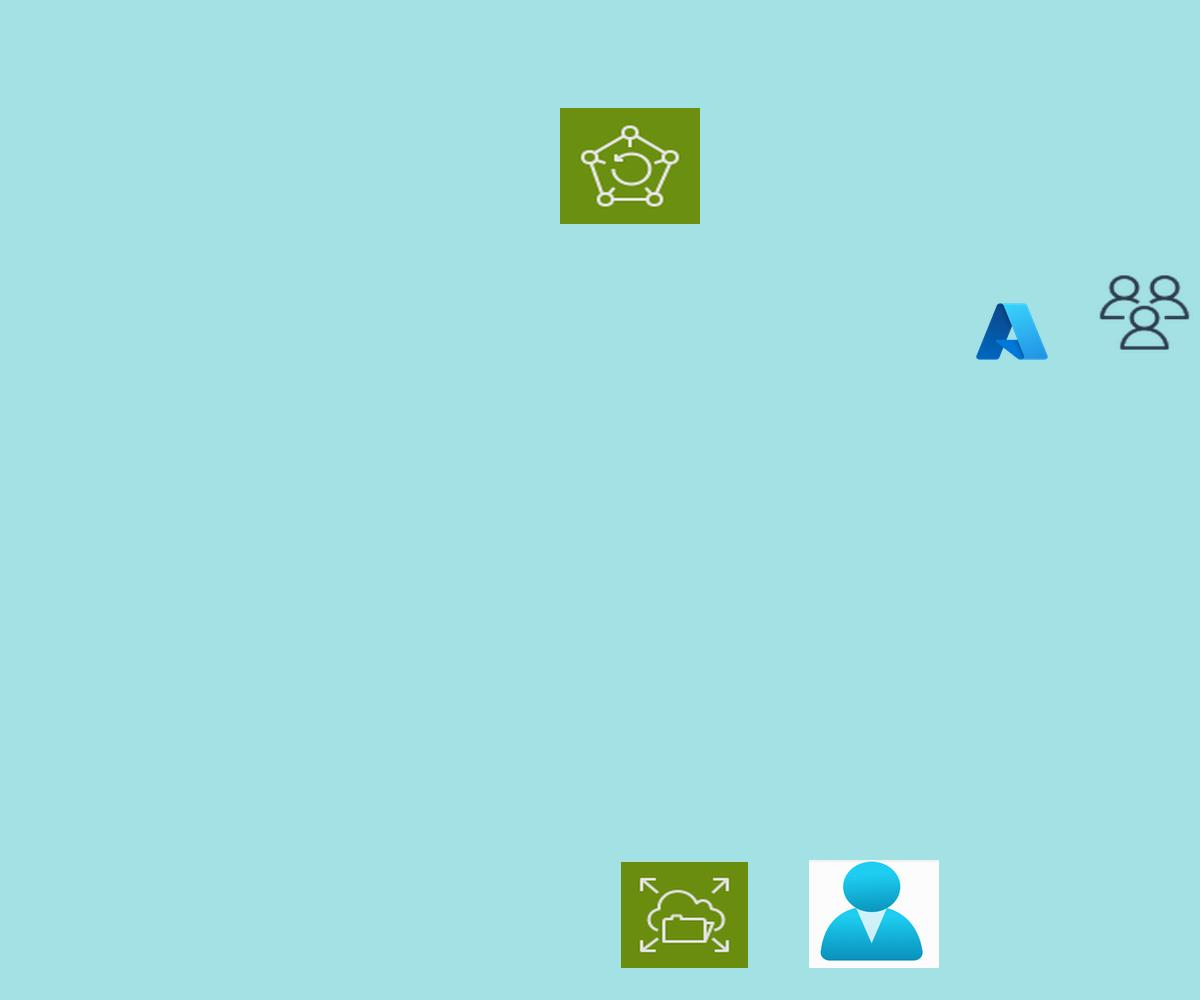AWS-Backup: (560, 108, 700, 224)
AWS-EFS: (621, 862, 748, 968)
AWS-Res_Users: (1096, 272, 1193, 353)
Azure_services: (973, 299, 1051, 364)
Azure_users: (809, 860, 939, 968)
